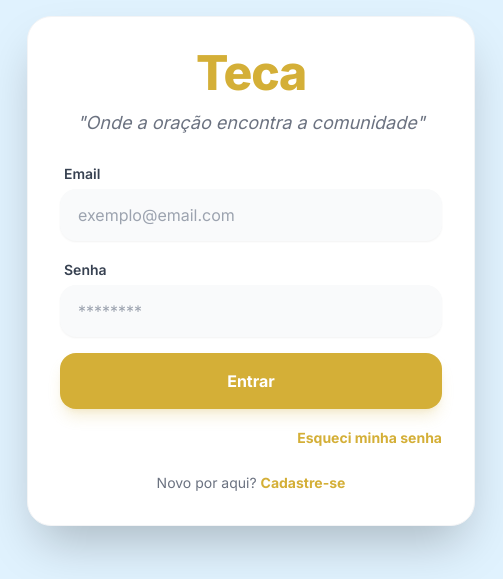
Test: AuthScreen — modo forgot (recuperar senha) › mostra o campo de e-mail e o botão de enviar ao clicar em "Esqueci minha senha"
Click the button "Esqueci minha senha": (370, 438) [297,428,442,448]
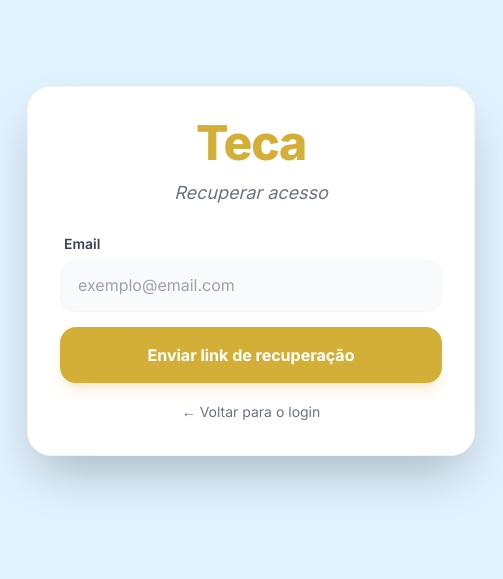
Expected: the field with placeholder "exemplo@email.com" is shown, [60,259,442,311]
Result: the button "Enviar link de recuperação" is shown at [60,327,442,383]
Result: the password field with placeholder "********" is gone
